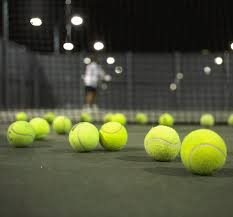tennis_ball: (180, 128, 228, 176), (142, 125, 182, 162), (67, 120, 98, 153), (98, 120, 129, 151), (6, 119, 35, 149), (28, 117, 51, 141), (53, 115, 72, 136), (199, 113, 215, 129), (158, 112, 174, 127), (110, 112, 126, 125), (14, 109, 28, 123), (43, 110, 56, 124), (135, 112, 147, 125), (80, 112, 89, 123), (103, 114, 112, 123), (228, 116, 233, 125)
